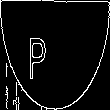P_N: (45, 29, 65, 81)
